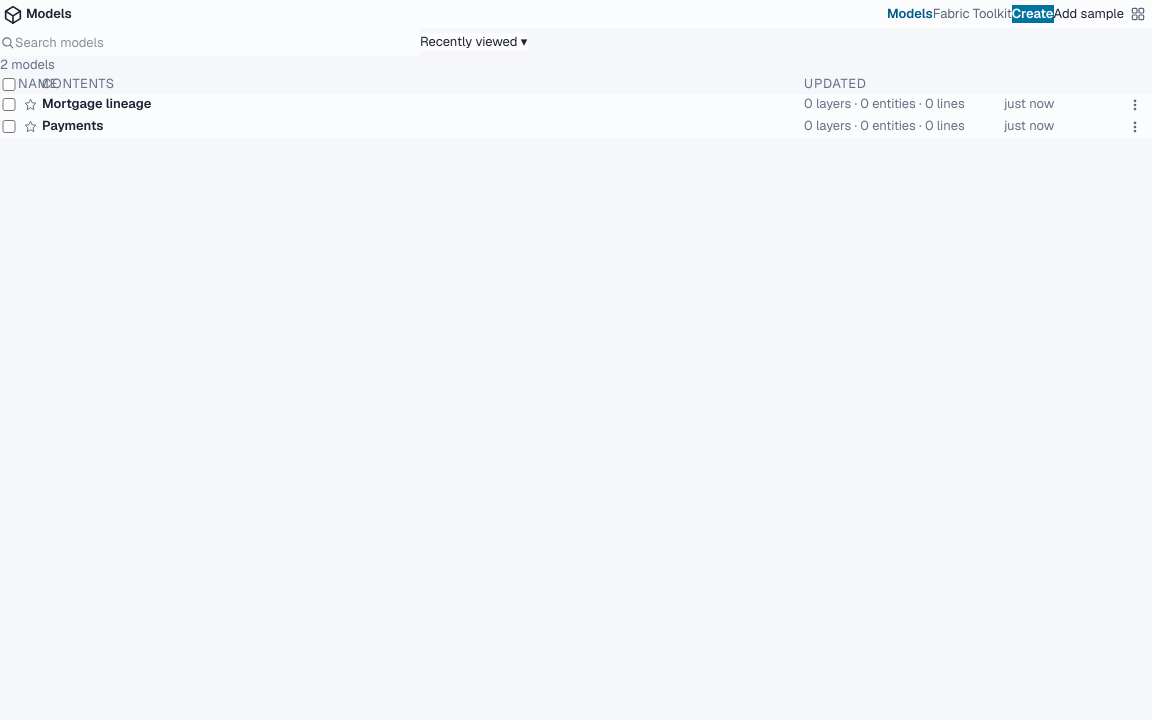
Scenario: ModelBrowser › tags a model, then filters by clicking that tag on the row
Click the button named "Actions for Mortgage lineage". click: coordinates (1135, 105)
box: [1124,94,1146,116]
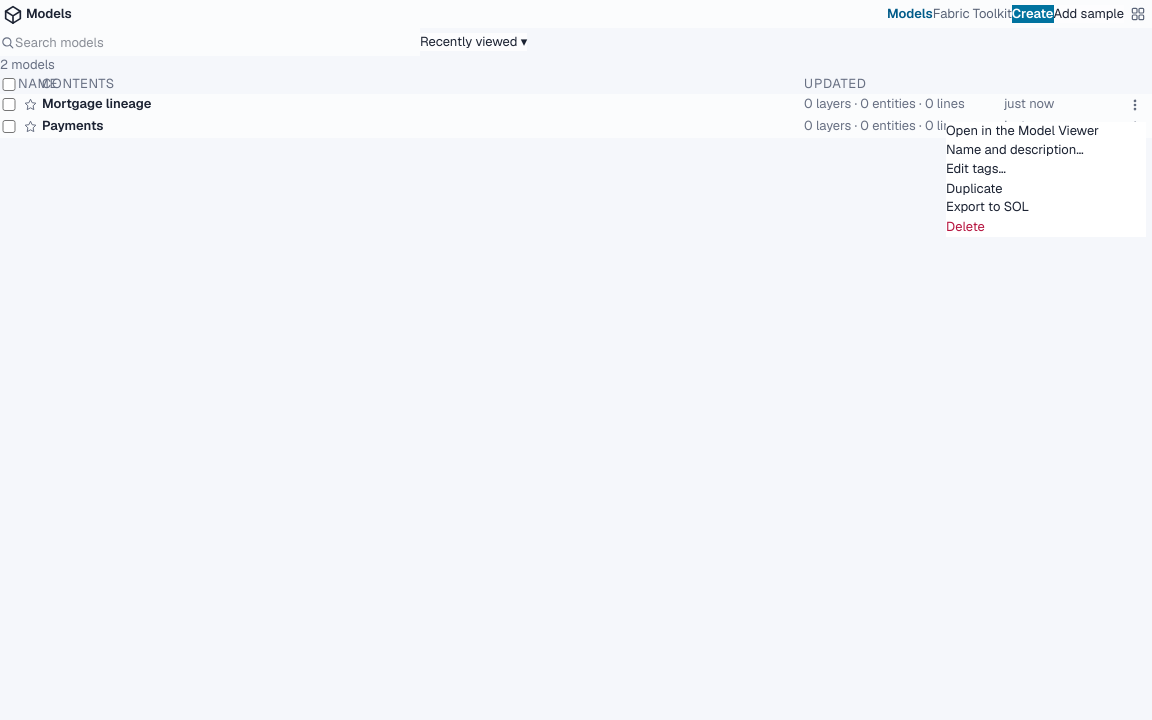
Click the menu item "Edit tags…". click: coordinates (976, 168)
box: [946,160,1006,177]
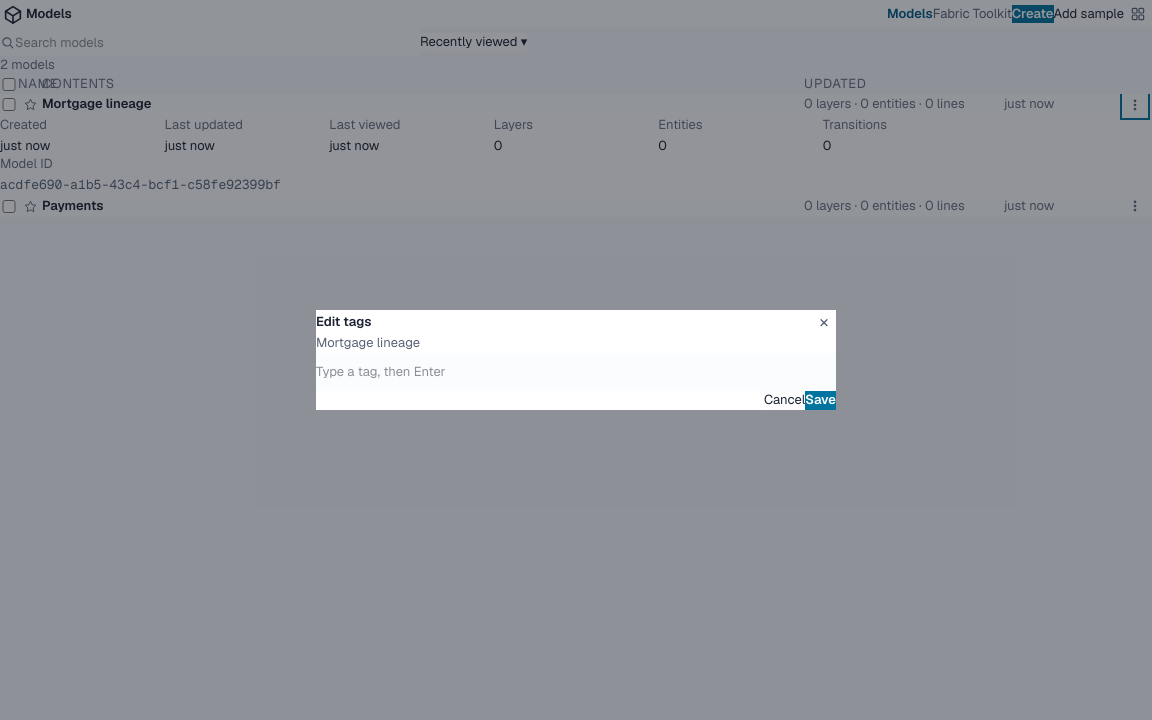
Type "Logical" into the field named "Add a tag". click: coordinates (576, 372)
box: [316,363,836,381]
Then press Enter
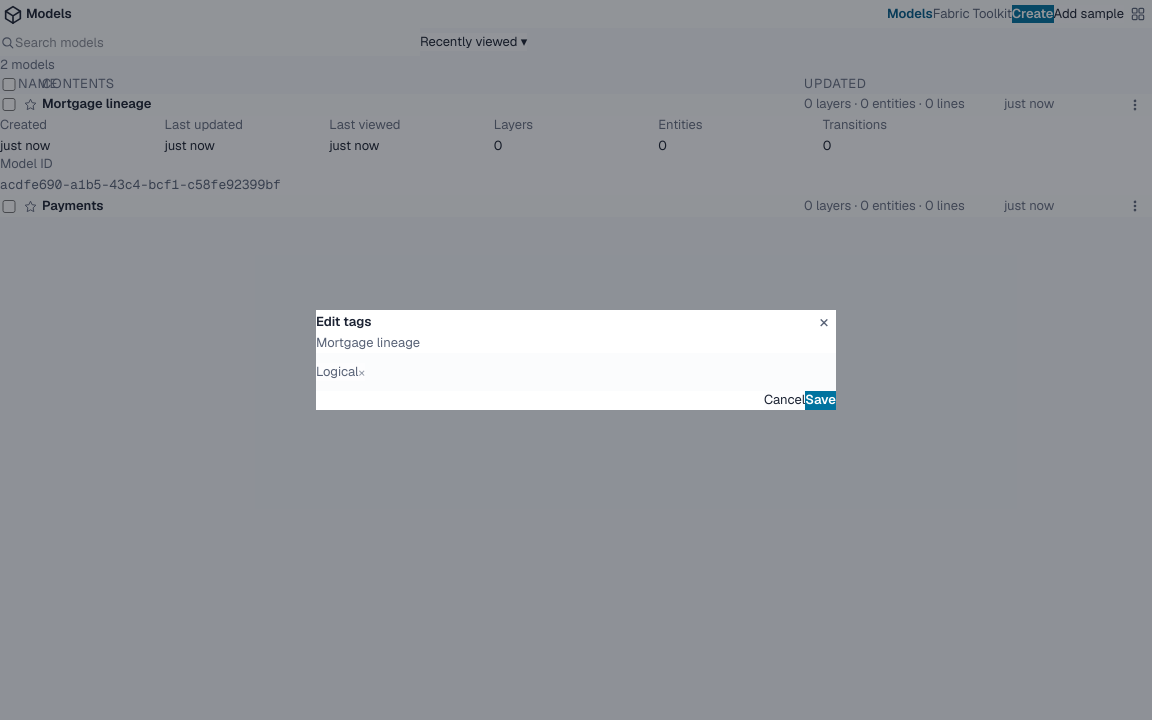
Click the button "Save". click: coordinates (821, 400)
box: [805,391,836,410]
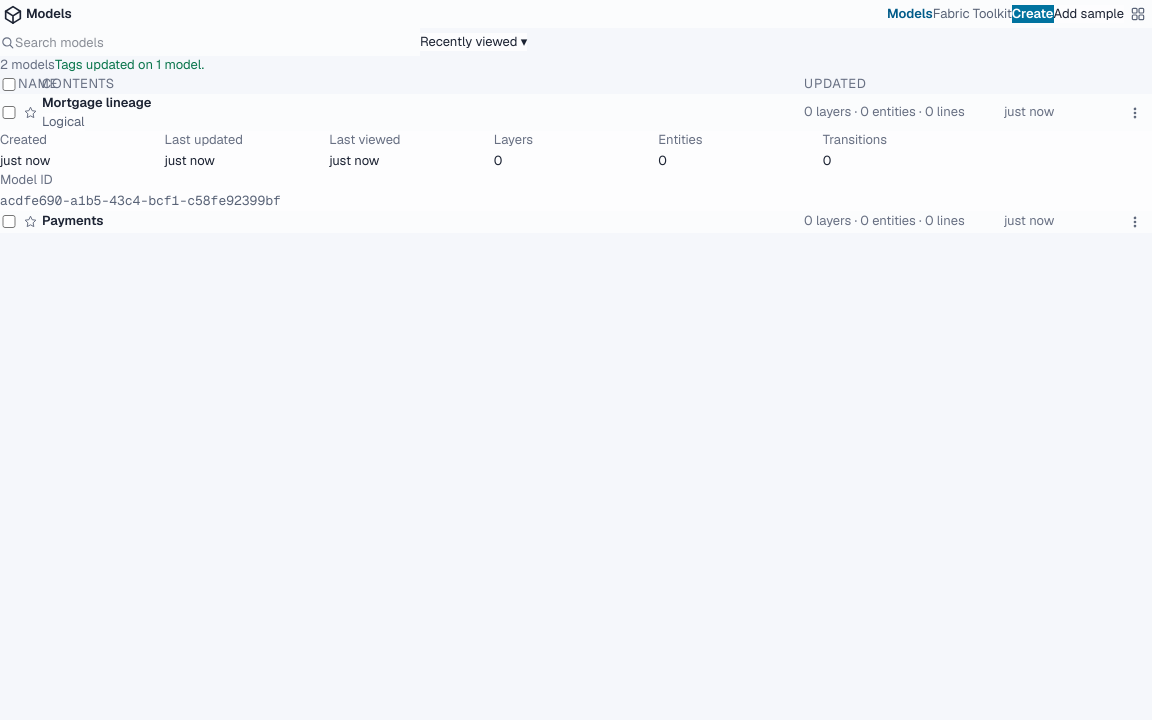
// With the sidebar gone, the tag chip on the row is the filter affordance.
Click the button "Logical". click: coordinates (63, 122)
box: [42,112,85,131]
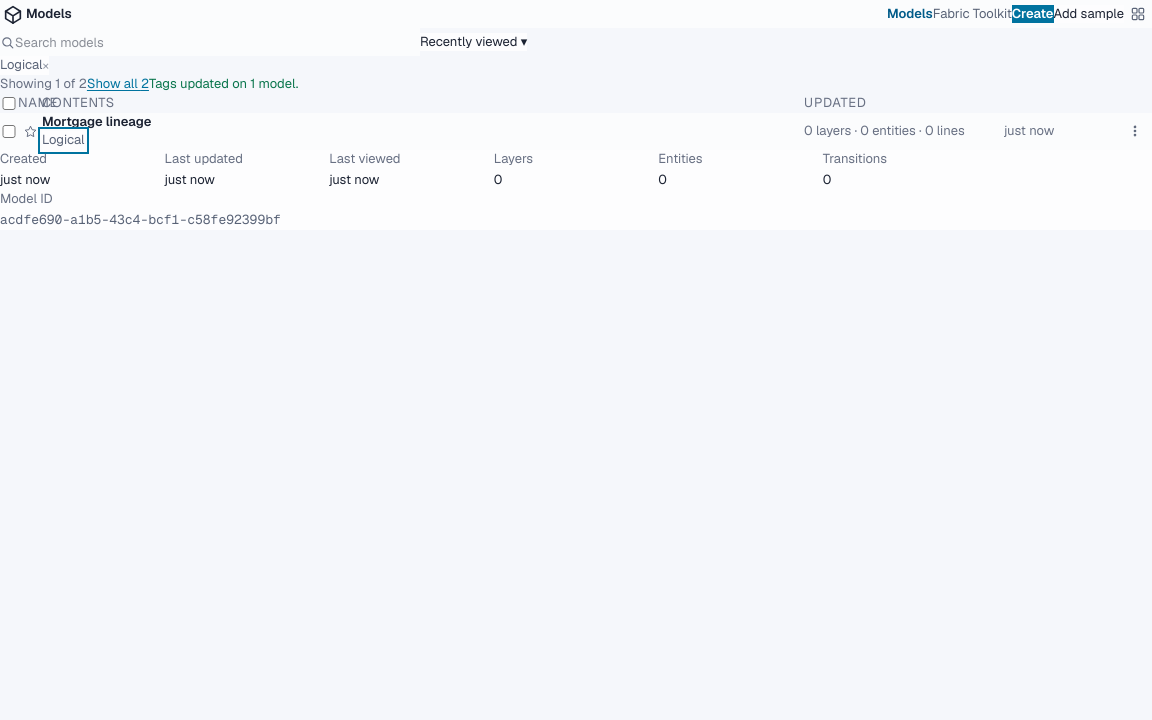
Expected: the button "Mortgage lineage" is shown, [42,112,151,131]
Now the button "Payments" is gone
